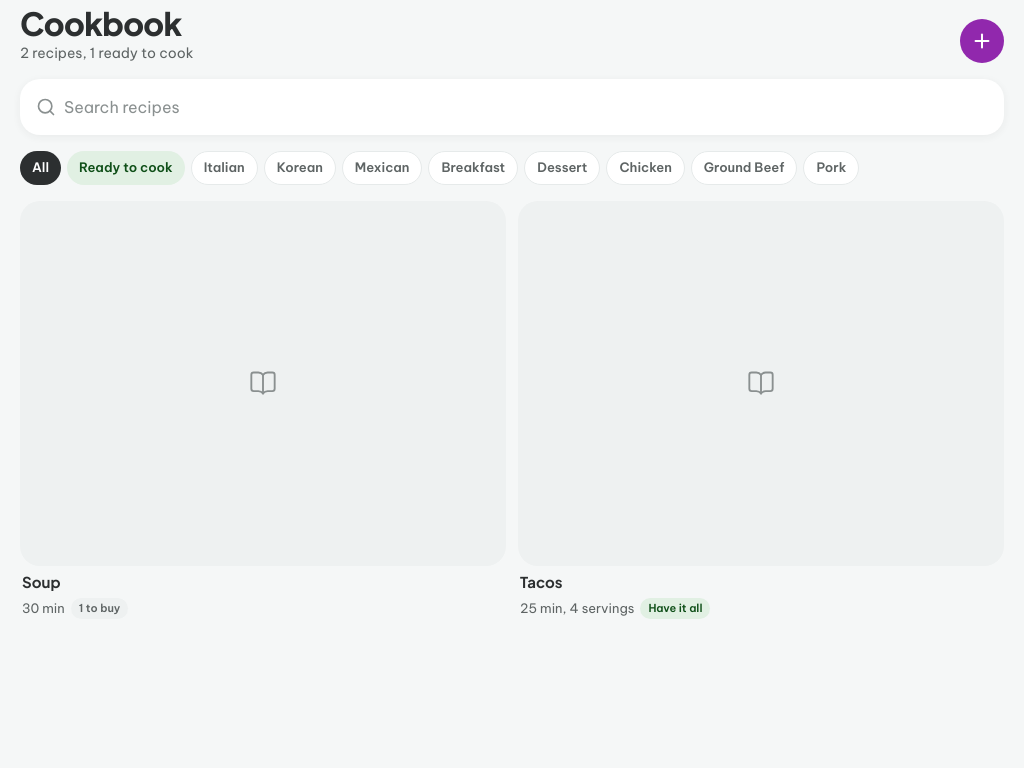
CookbookPage › the + button opens the add sheet with Link, Type it, Photo and Paste modes
The width and height of the screenshot is (1024, 768).
expect the text "Tacos" is shown: met, box [518,572,564,592]
Click the button named "Add a recipe" at x=982, y=41, box [960,19,1004,63]
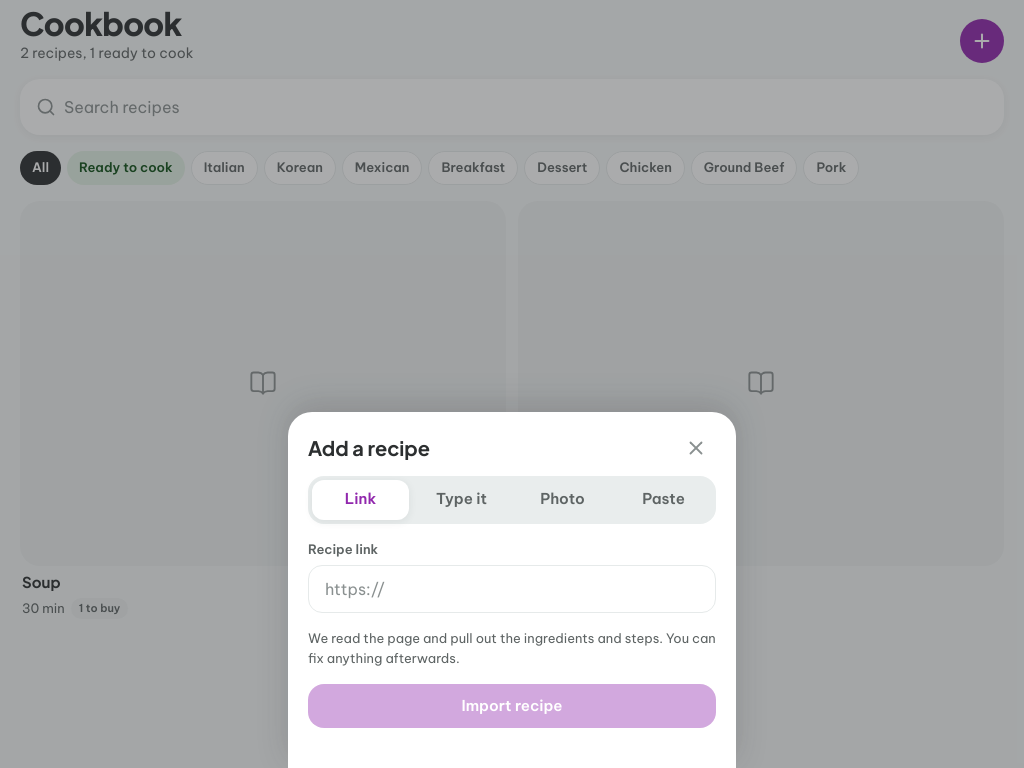
expect the tab "Type it" is shown: met, box [413,480,510,520]
expect the tab "Photo" is shown: met, box [514,480,611,520]
expect the tab "Paste" is shown: met
Click the tab "Paste" at x=664, y=500, box [615,480,712,520]
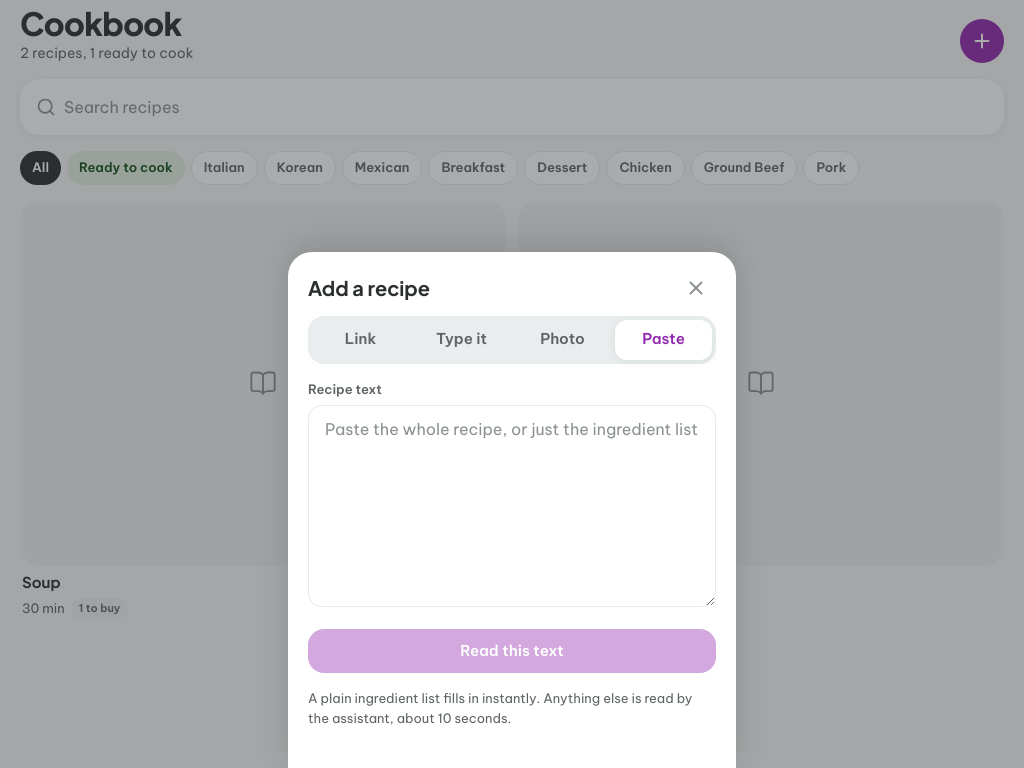
expect the button "Read this text" is shown: met, box [308,629,716,673]
Click the tab "Link" at x=360, y=340, box [312,320,409,360]
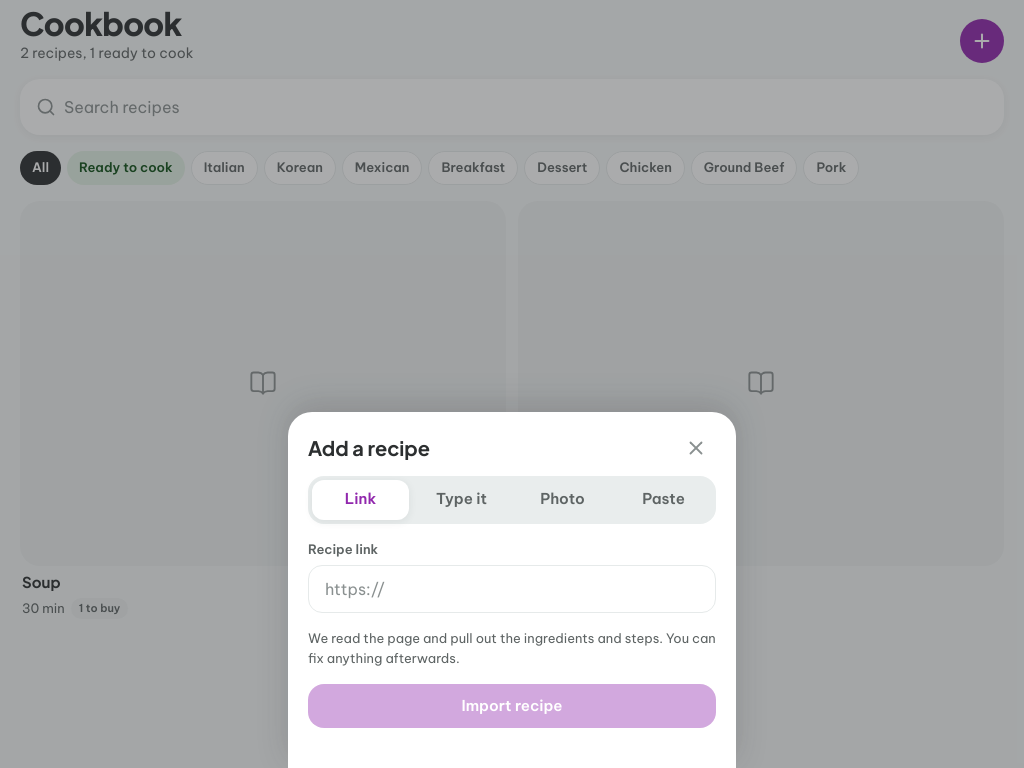
expect the button "Import recipe" is shown: met, box [308,684,716,728]
